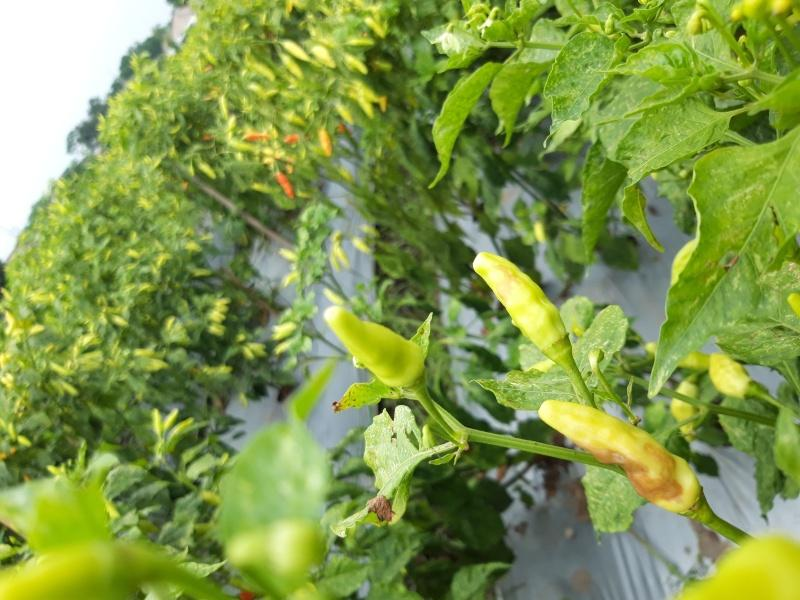cabai_normal: (472, 251, 572, 354), (322, 304, 425, 385)
lalat_buah: (536, 399, 699, 507)
